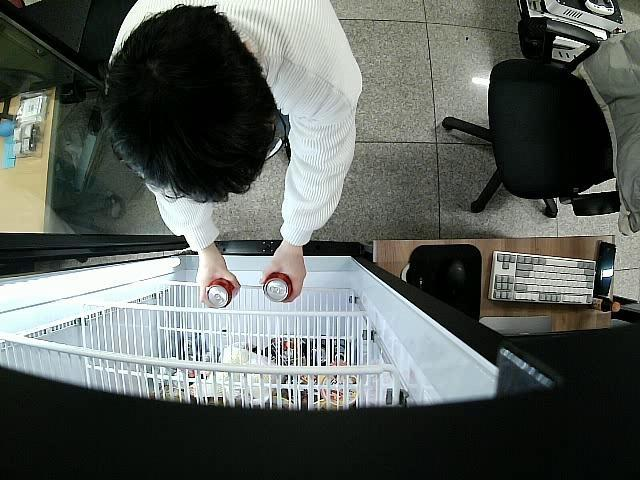11_cocaColaZero: (264, 272, 292, 303), (207, 275, 234, 306)
